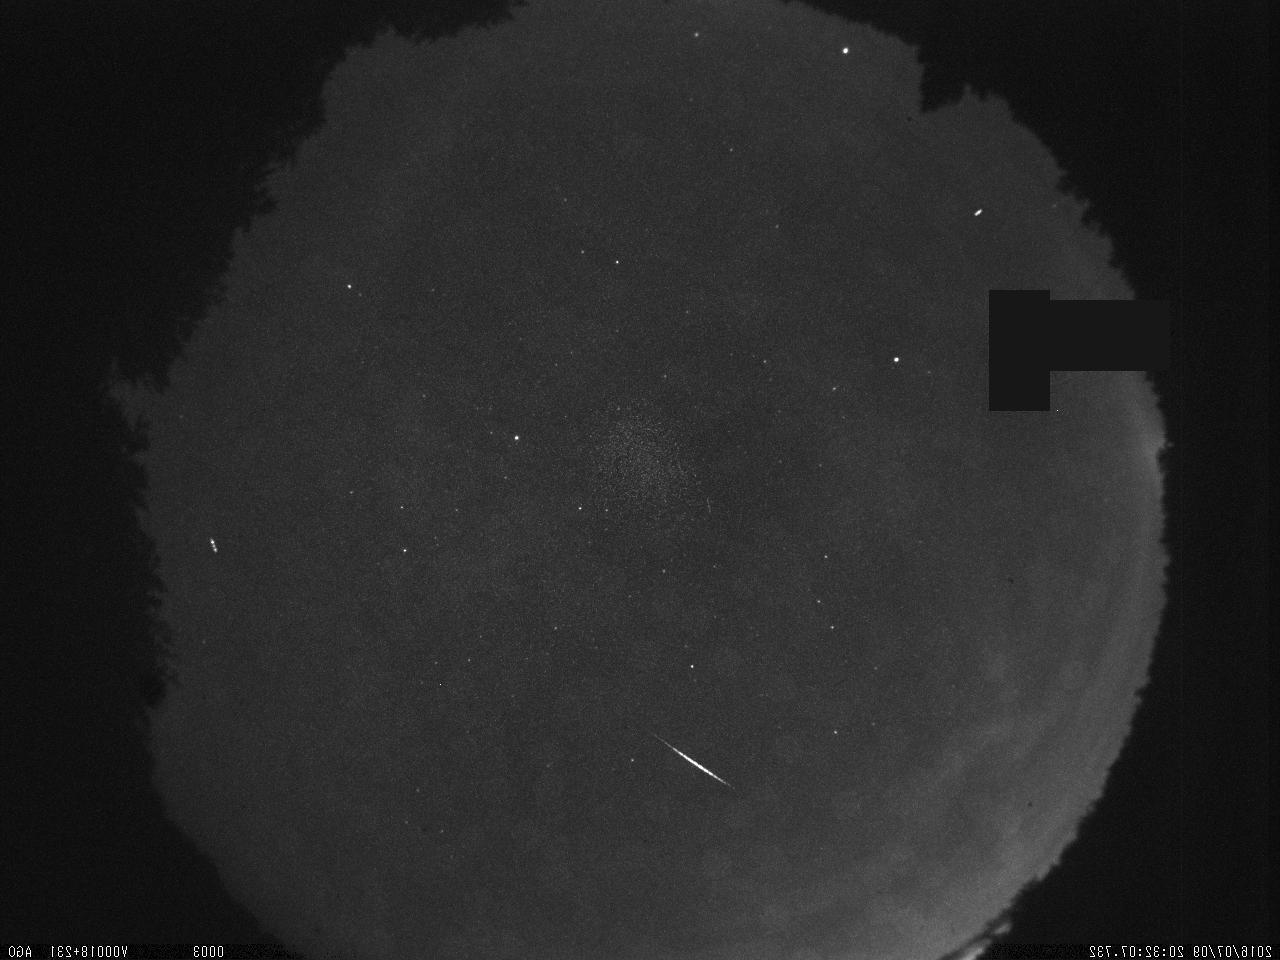meteor: (636, 708, 738, 796)
satelite: (203, 535, 223, 559)
